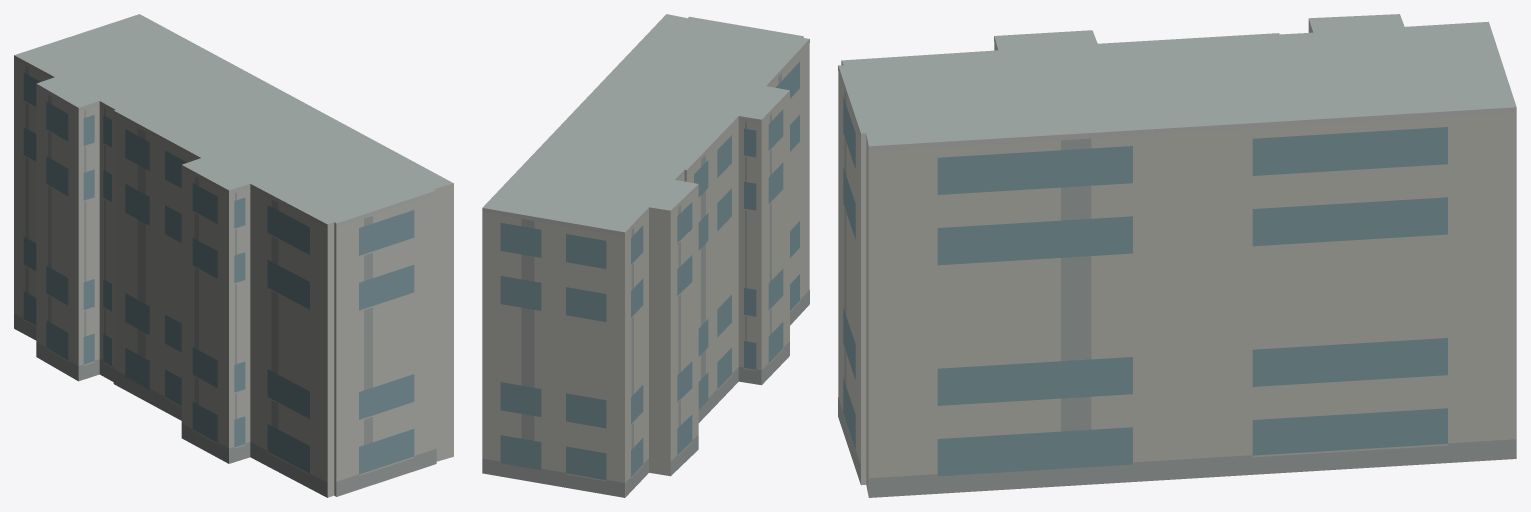
The model's file is survey-upis-32758748.glb.
The picture shows the model from 3 angles, left to right: view 1: azimuth 30°, elevation 25°; view 2: azimuth 150°, elevation 25°; view 3: azimuth 270°, elevation 25°; orthographic projection. The views are drawn at different scales.
Parts seen in each view (by area): view 1: survey-upis-32758748.tmp; view 2: survey-upis-32758748.tmp; view 3: survey-upis-32758748.tmp.
Part boxes in pixels (<box>): survey-upis-32758748.tmp: <box>14,14,453,497</box>; survey-upis-32758748.tmp: <box>482,14,809,497</box>; survey-upis-32758748.tmp: <box>838,14,1516,497</box>.
Bounding box in the file's own units: 12.32 × 15.25 × 26.68.
